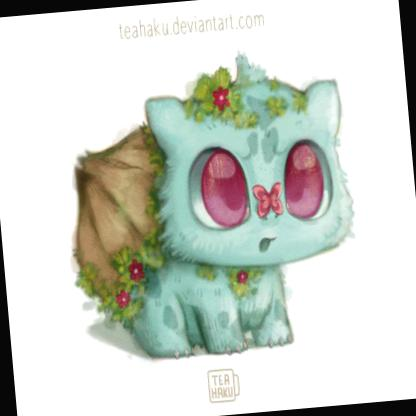Bisasam: (12, 0, 393, 415)
